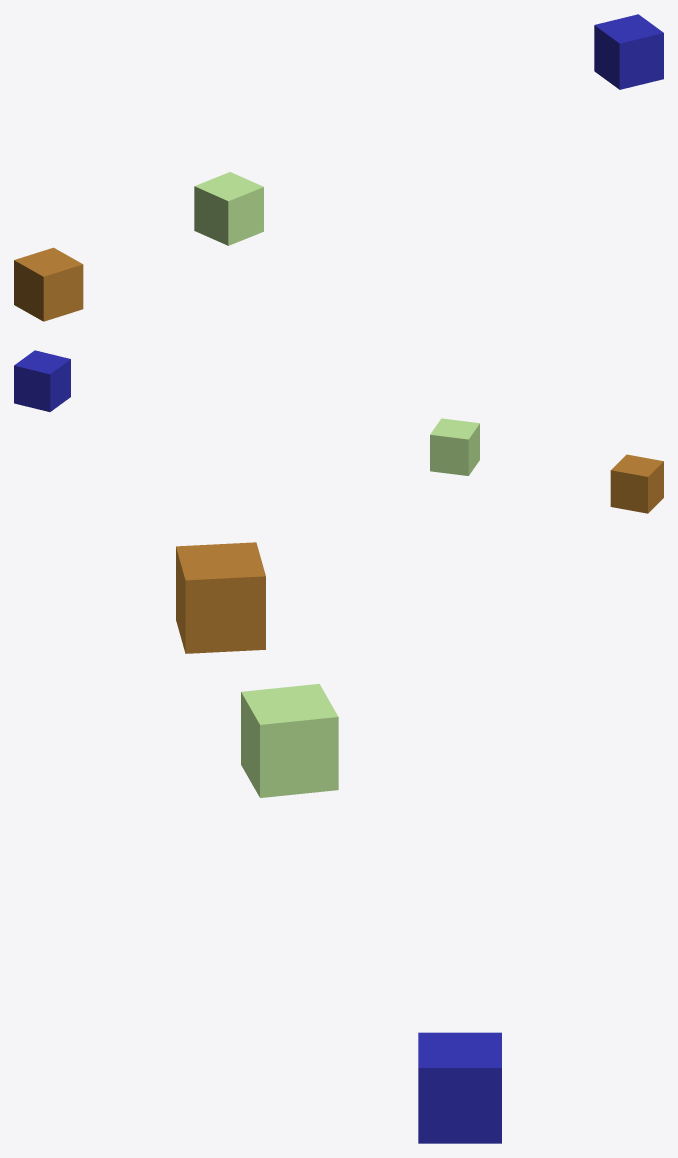
File: 128_chimney.glb
3 views of the same model, one above another, from view 1: azimuth 30°, elevation 25°; view 2: azimuth 150°, elevation 25°; view 3: azimuth 270°, elevation 25° (orthographic). The views are drawn at different scales.
Parts seen in each view (by area): view 1: Box004, Box001, Box002; view 2: Box004, Box001, Box002; view 3: Box002, Box001, Box004.
Boxes of the visible parts, <box> form: Box004: <box>594,14,663,89</box>; Box001: <box>14,247,83,321</box>; Box002: <box>194,172,263,245</box>; Box004: <box>14,350,70,411</box>; Box001: <box>610,454,663,513</box>; Box002: <box>430,418,479,475</box>; Box002: <box>241,684,338,797</box>; Box001: <box>176,542,265,653</box>; Box004: <box>418,1032,501,1143</box>.
Bounding box in the file's own units: 15.48 × 1.38 × 3.82.
